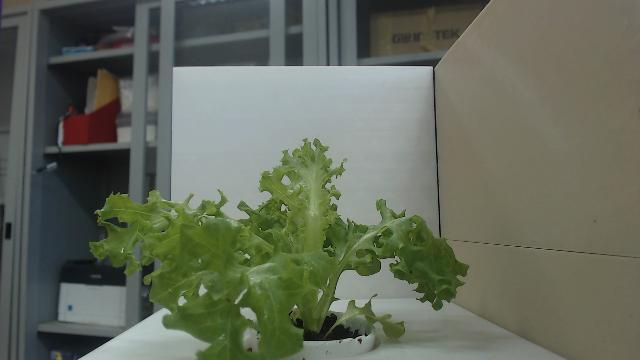Harvest Stage: (87, 134, 470, 360)
